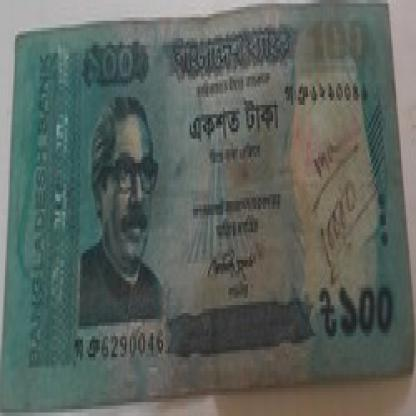one hundred taka: (336, 277, 401, 340), (306, 14, 375, 66), (80, 45, 150, 83)
